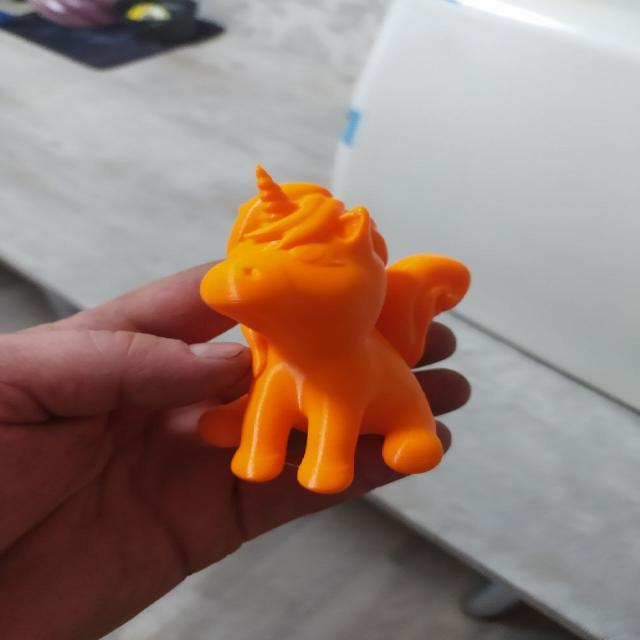Without deffect: (194, 164, 487, 495)
